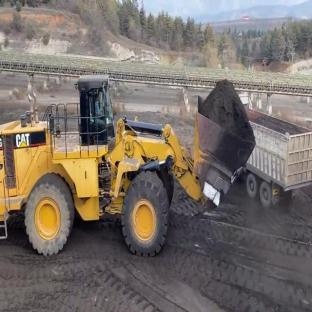ExcavationMachinery: (10, 78, 248, 253)
Vehicle: (250, 92, 312, 216)
